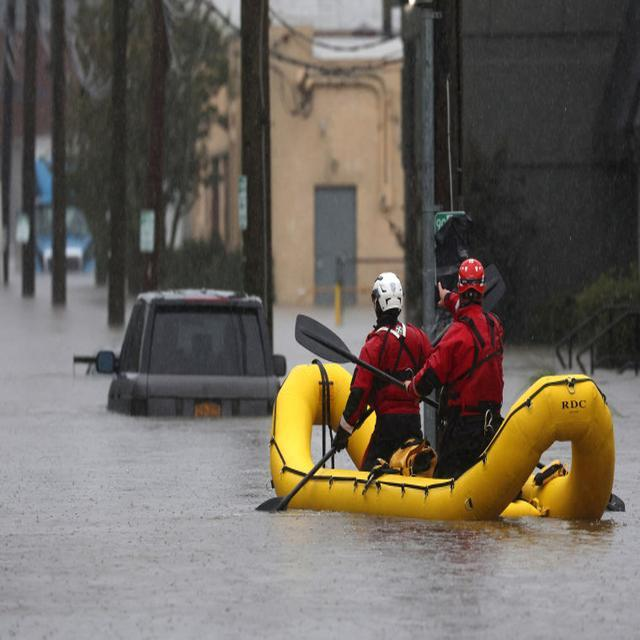Car-RiskLevel3: (85, 281, 297, 429)
Person-RiskLevel3: (320, 264, 436, 494), (404, 256, 513, 476)
